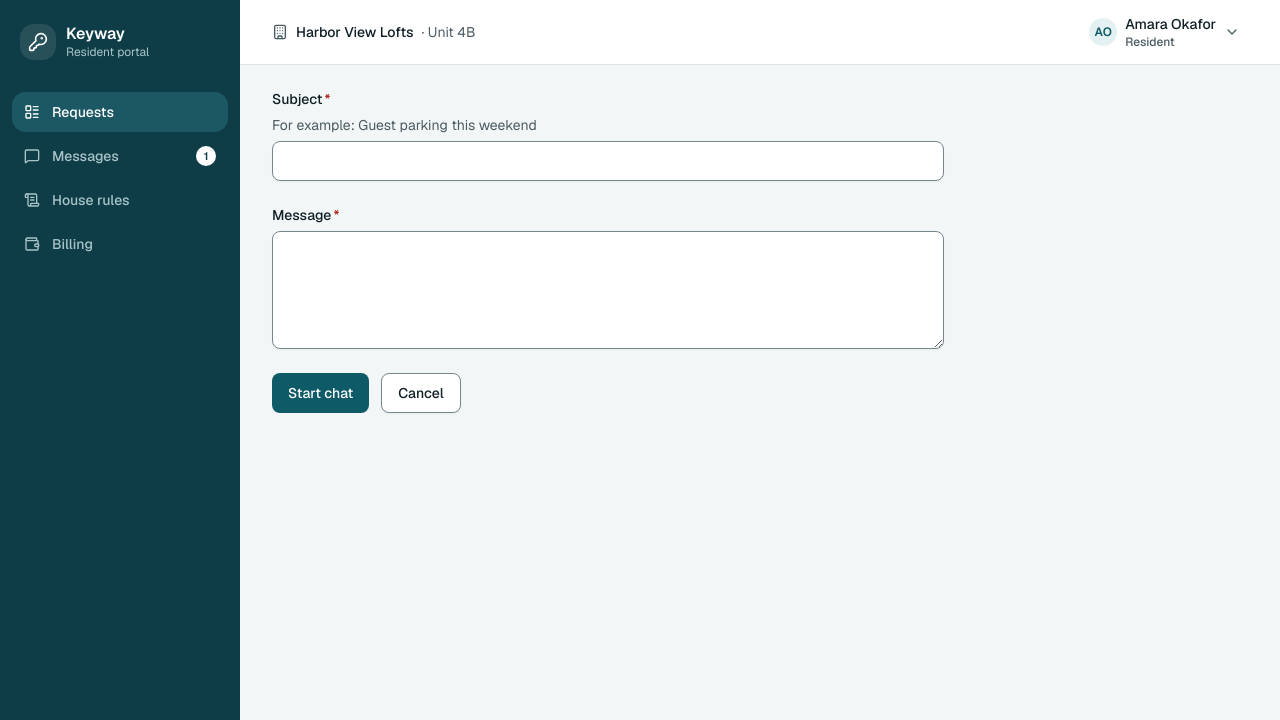
Scenario: NewChatForm › starts a chat and opens it
In the field labelled "Subject*": (608, 161) [272,141,944,181], type "Bike storage key"
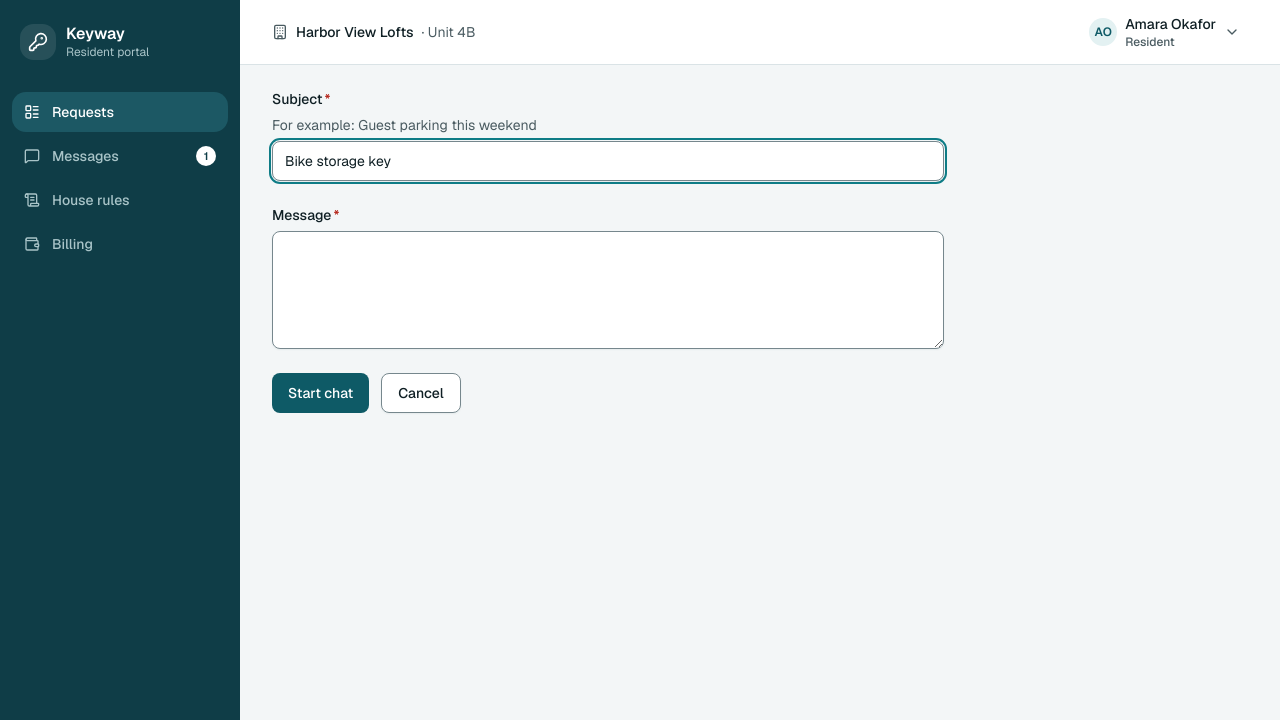
In the text box labelled "Message*": (608, 290) [272,231,944,349], type "Where do I get a key for the bike room?"
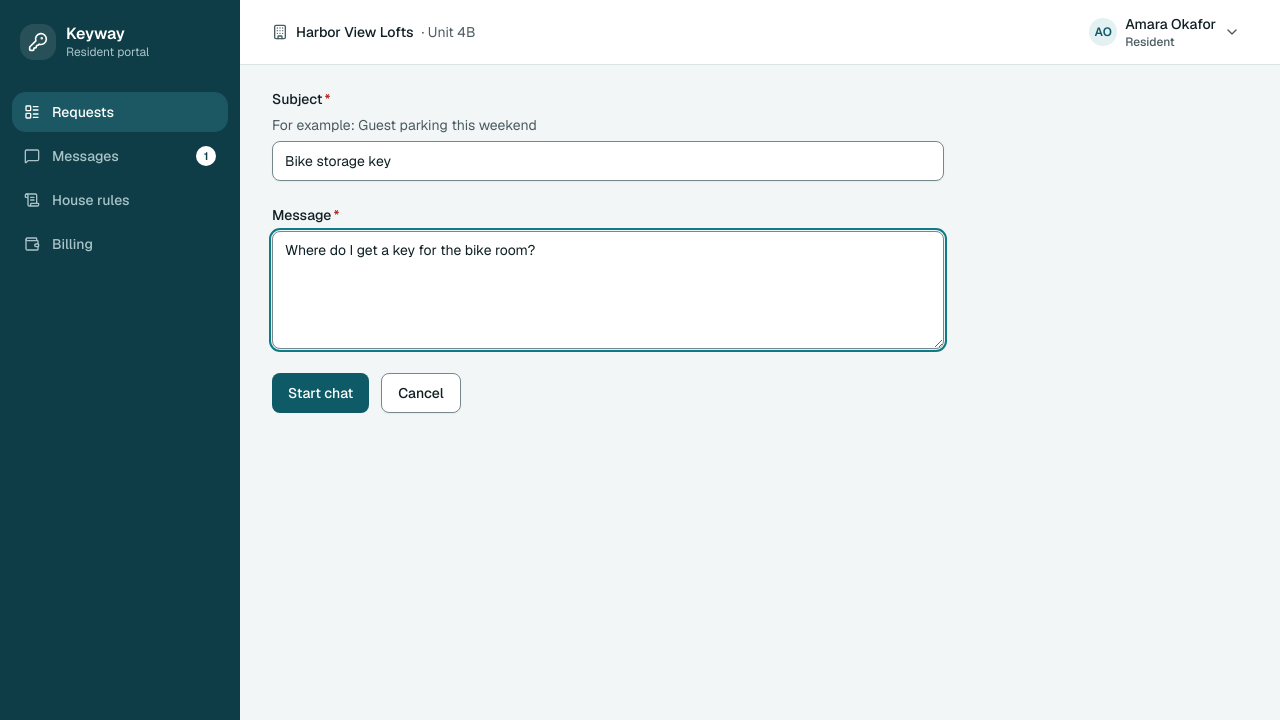
Click the button "Start chat": (321, 393) [272,373,369,413]
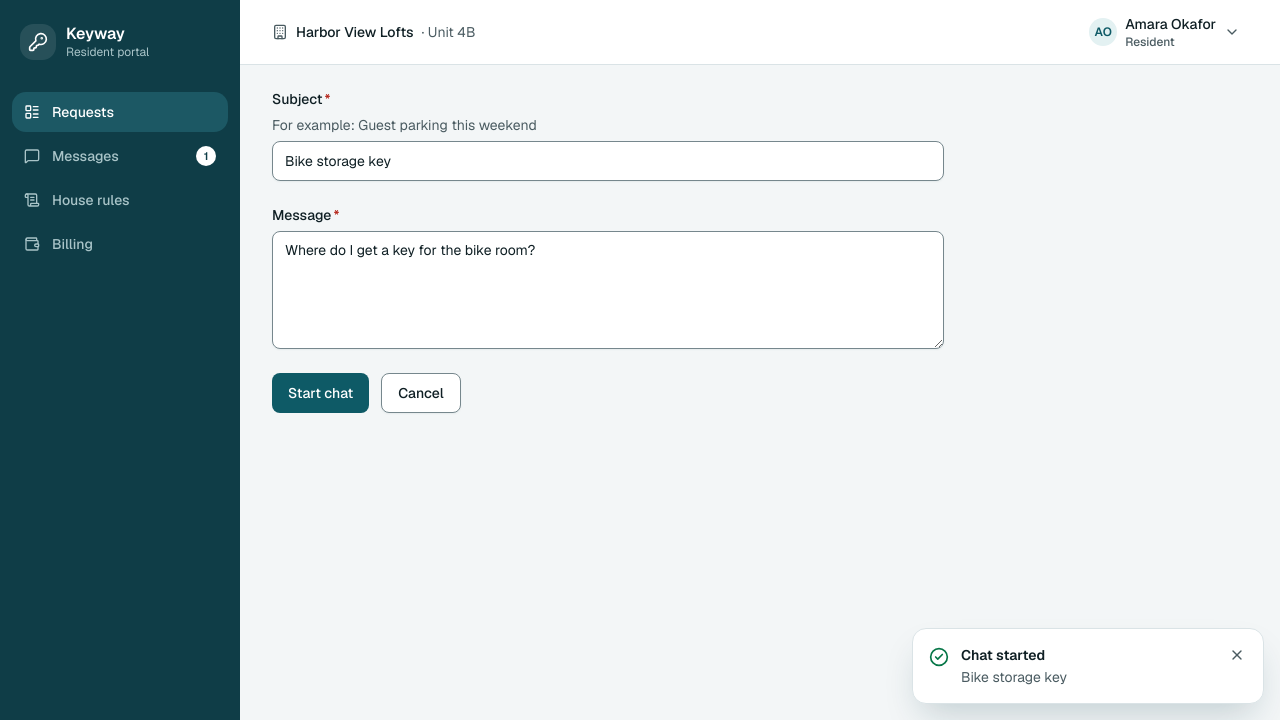
Check: the text "Chat started" is shown, box [961,646,1045,664]
